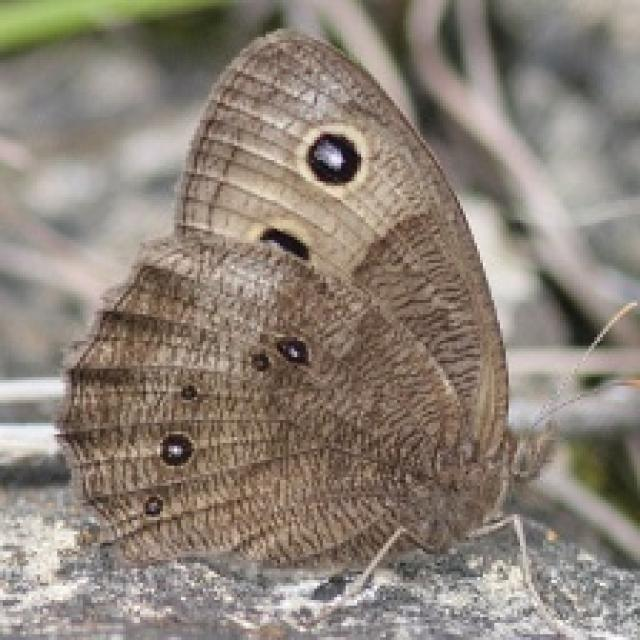butterfly: (52, 23, 637, 637)
